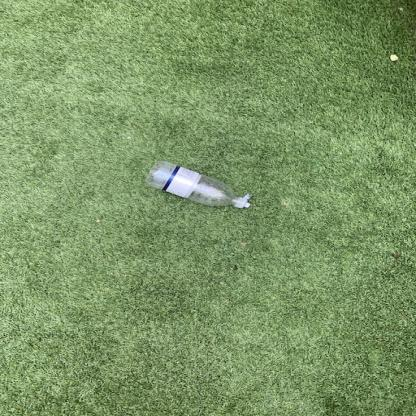trash: (141, 160, 254, 212)
